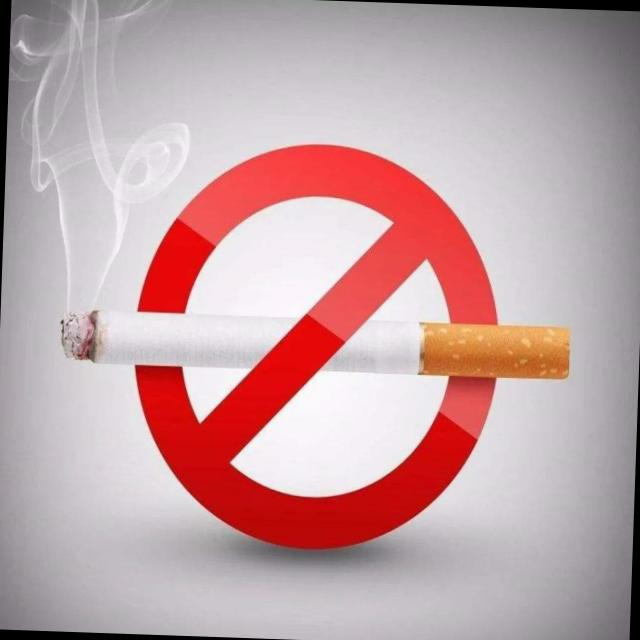cigarette: (49, 296, 580, 400)
